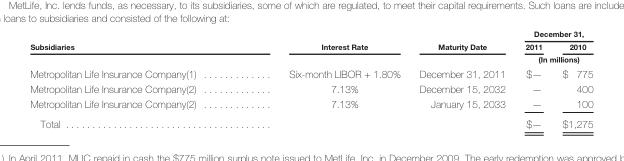table: (29, 28, 592, 129)
table column: (29, 28, 242, 129), (242, 28, 409, 129), (409, 28, 514, 129), (551, 28, 592, 129), (514, 28, 551, 129)
table column header: (29, 28, 592, 65)
table row: (29, 95, 592, 113), (29, 113, 592, 129), (29, 65, 592, 80), (29, 80, 592, 95), (29, 39, 592, 52), (29, 52, 592, 65), (29, 28, 592, 39)
table spanning cell: (29, 28, 242, 65), (242, 28, 409, 65), (409, 28, 514, 65), (514, 52, 592, 65), (514, 28, 592, 39)
